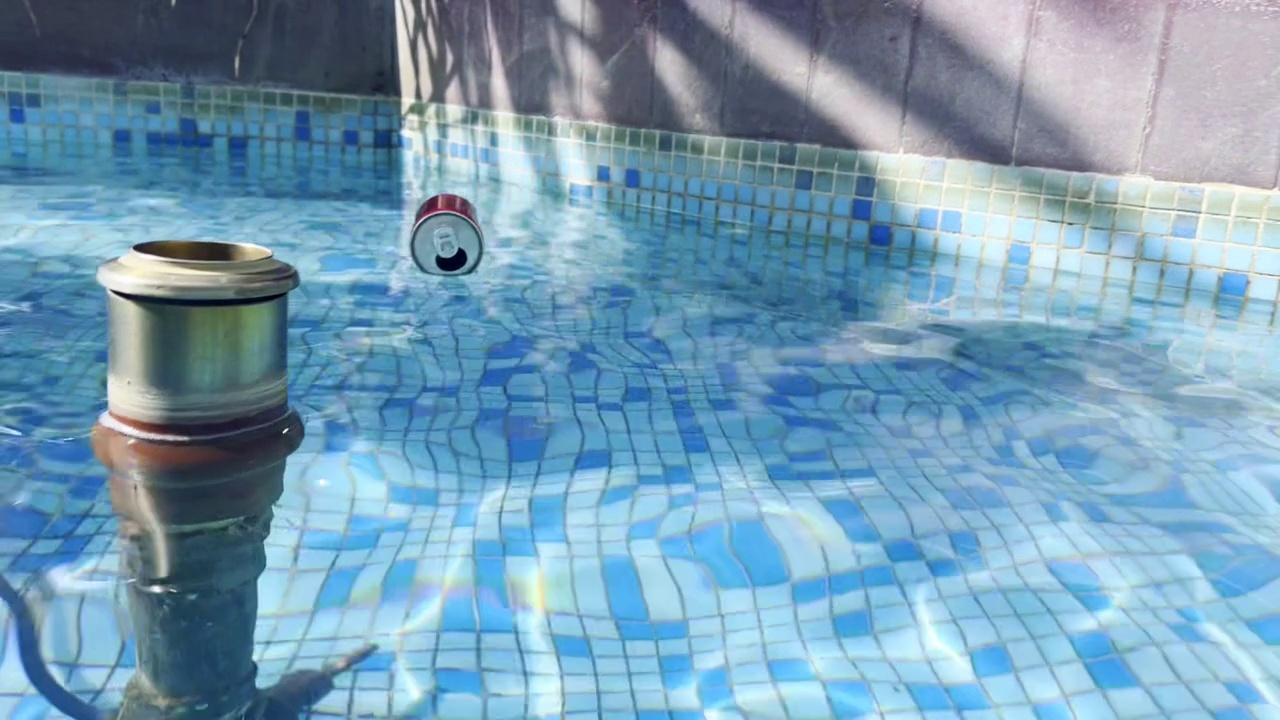debris: (397, 184, 490, 281)
